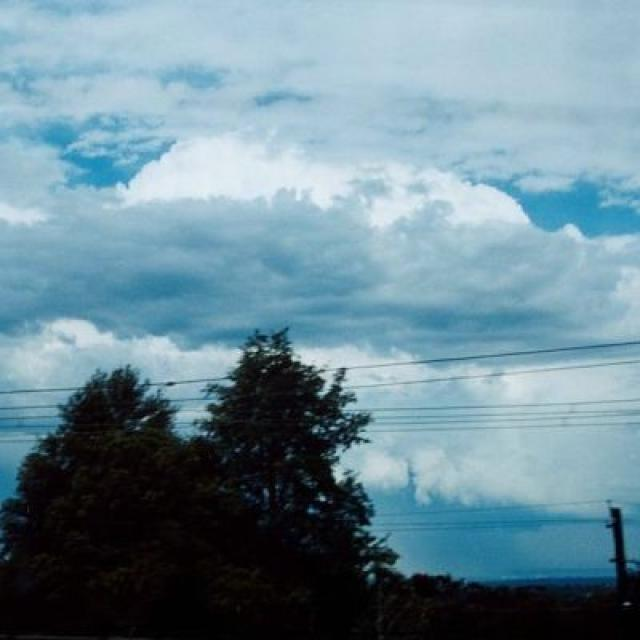Ac: (1, 1, 640, 320)
